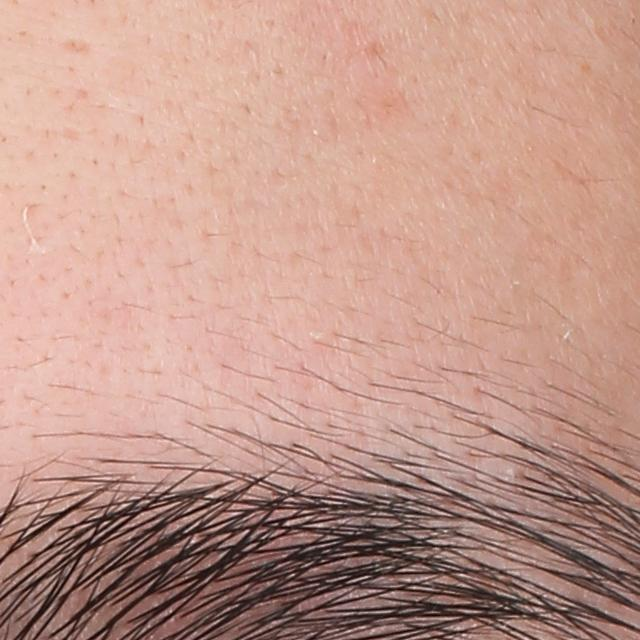atrophic_scar: (55, 35, 93, 58)
